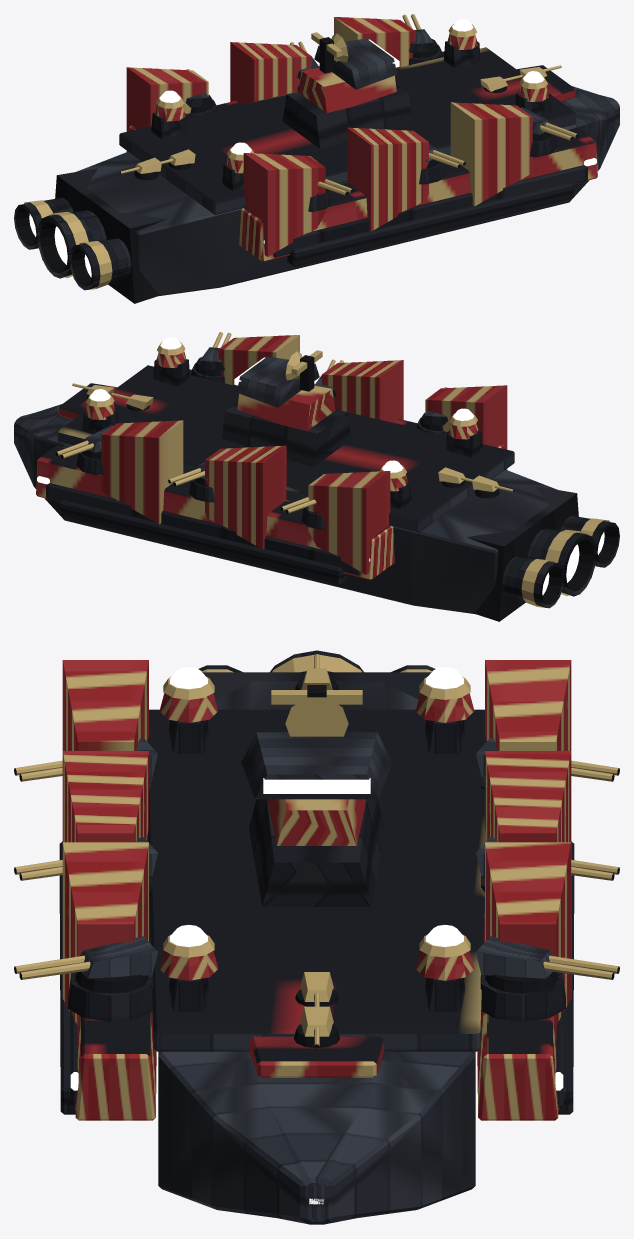
The model's file is cruiser.glb.
3 renders of one model, top to bottom at view 1: azimuth 30°, elevation 25°; view 2: azimuth 150°, elevation 25°; view 3: azimuth 270°, elevation 25°, orthographic. The views are drawn at different scales.
Visible parts, largest first — view 1: hull_body, engine_block, sensor_tower, weapon_turrets, shield_pylons; view 2: hull_body, engine_block, sensor_tower, weapon_turrets, shield_pylons; view 3: hull_body, sensor_tower, weapon_turrets, shield_pylons, engine_block.
Part boxes in pixels (bbox=[...]): hull_body: bbox=[76, 17, 619, 296]; engine_block: bbox=[14, 168, 166, 303]; sensor_tower: bbox=[282, 32, 411, 148]; weapon_turrets: bbox=[120, 14, 578, 211]; shield_pylons: bbox=[151, 19, 551, 191]; hull_body: bbox=[14, 335, 557, 614]; engine_block: bbox=[467, 486, 619, 621]; sensor_tower: bbox=[222, 350, 351, 466]; weapon_turrets: bbox=[55, 332, 513, 529]; shield_pylons: bbox=[82, 337, 482, 509]; hull_body: bbox=[59, 660, 574, 1224]; sensor_tower: bbox=[241, 685, 392, 906]; weapon_turrets: bbox=[14, 654, 619, 1048]; shield_pylons: bbox=[159, 667, 474, 1011]; engine_block: bbox=[198, 650, 435, 699].
Bounding box in the file's own units: 42 × 13.22 × 21.7.
1 material, 1 textured.
